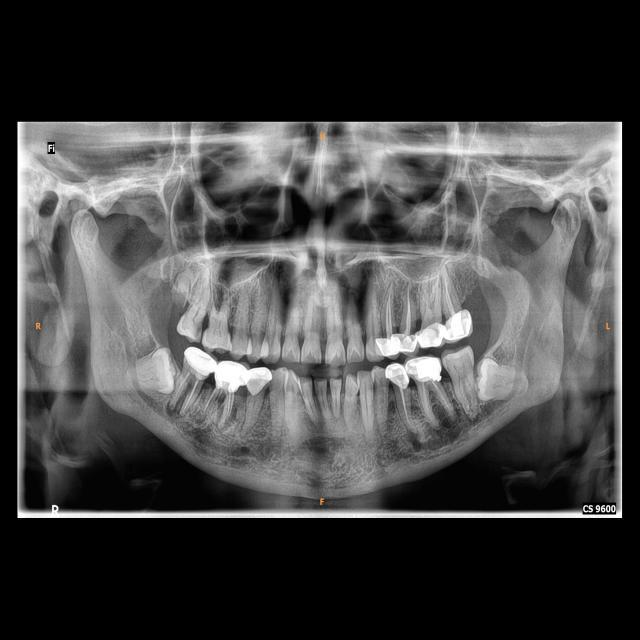kanal-tedavisi: (418, 382, 453, 418), (172, 372, 200, 413), (205, 387, 237, 419), (438, 276, 459, 314), (396, 386, 414, 427), (381, 293, 398, 336), (402, 287, 415, 334)
kaplama: (183, 345, 217, 378), (406, 356, 444, 381), (214, 361, 246, 388), (417, 320, 447, 348), (442, 312, 473, 338), (245, 366, 273, 394), (385, 362, 412, 390), (376, 332, 400, 358), (400, 332, 418, 354)
kok-enfeksiyonu: (432, 406, 464, 432), (162, 398, 185, 420)
